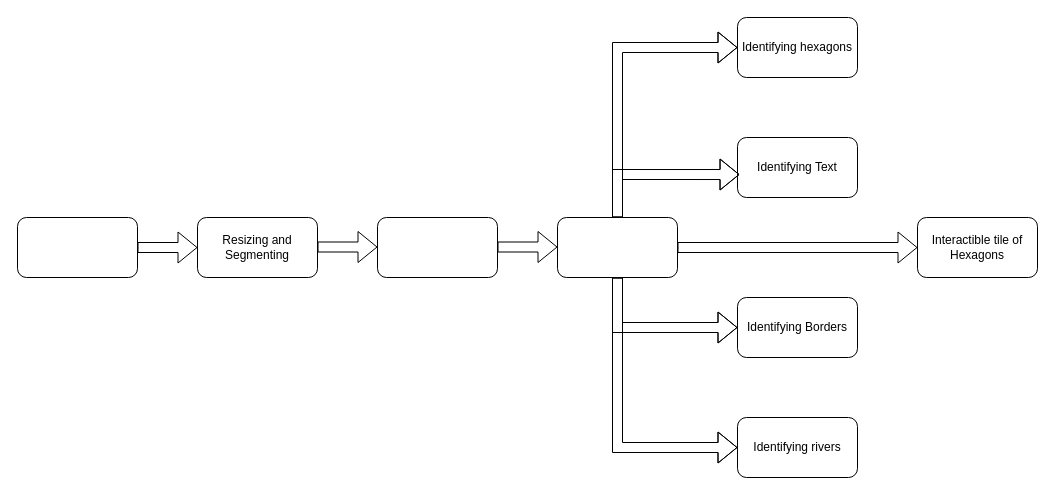
This 1055x495 diagram has some shape labels left out. Here are the shapes that lost their labels. From the top down, the centre of each, then its label:
At point (77, 247): "Uploaded image".
At point (437, 247): "Applying transforms".
At point (617, 247): "Identifying information".
